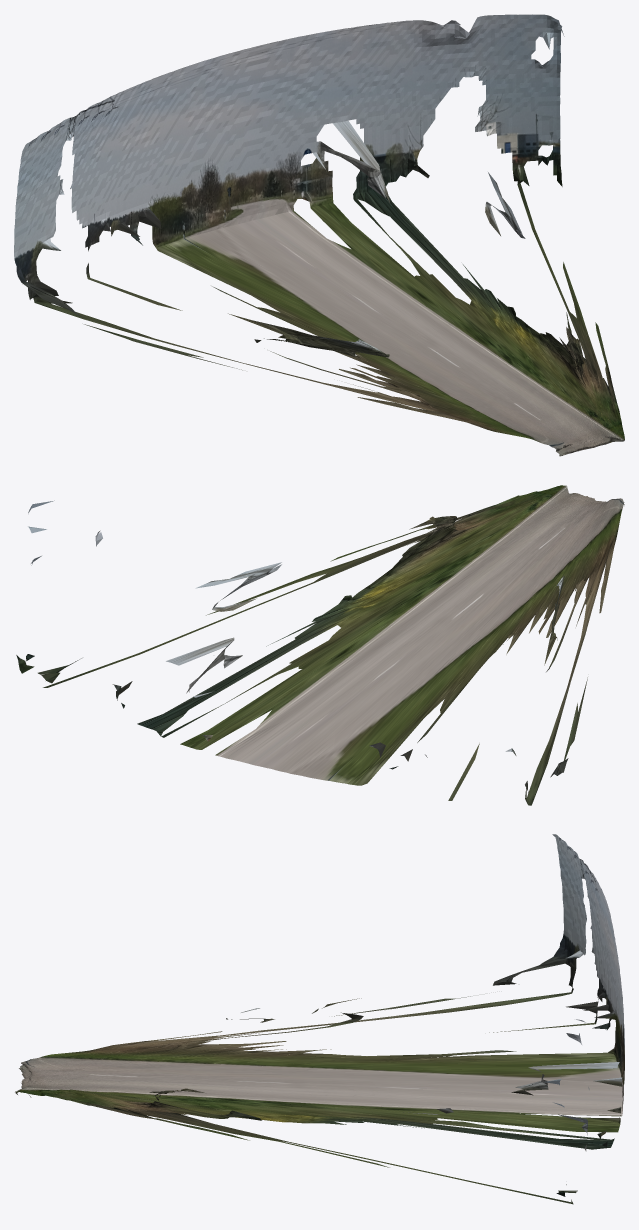
The picture shows the model from 3 angles, top to bottom: view 1: azimuth 30°, elevation 25°; view 2: azimuth 150°, elevation 25°; view 3: azimuth 270°, elevation 25°; orthographic projection. The views are drawn at different scales.
Parts seen in each view (by area): view 1: defaultobject; view 2: defaultobject; view 3: defaultobject.
Boxes of the visible parts, bbox=[...] form: defaultobject: bbox=[14, 14, 624, 456]; defaultobject: bbox=[16, 485, 624, 805]; defaultobject: bbox=[15, 834, 624, 1204].
Bounding box in the file's own units: 41.16 × 13.08 × 44.75.
1 material, 1 textured.
